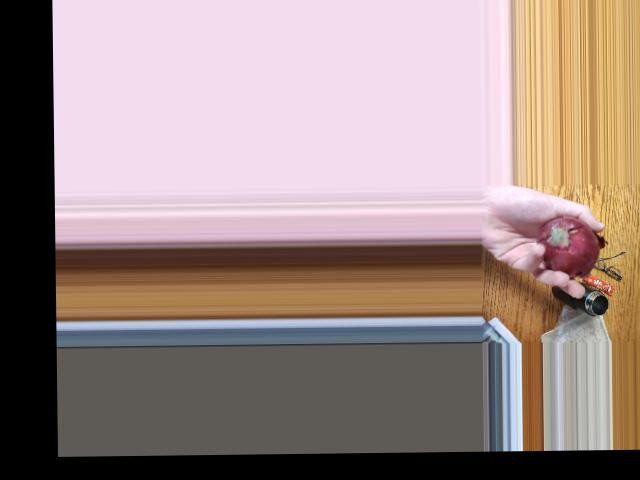onion: (538, 217, 596, 267)
